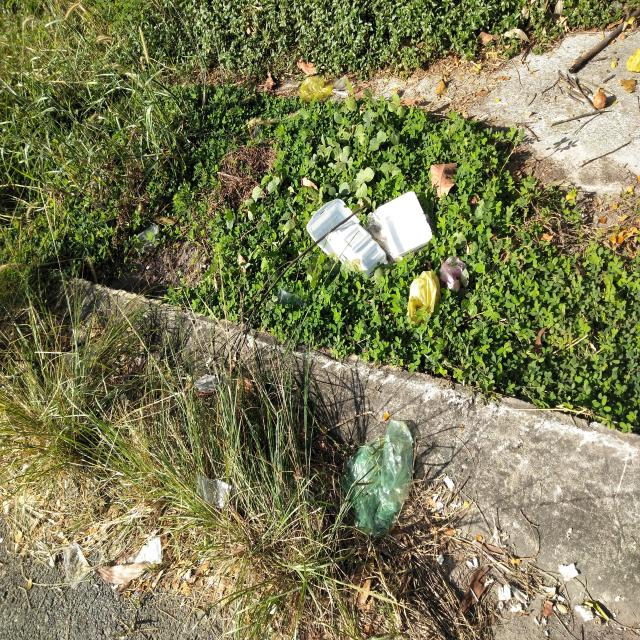litter: (296, 177, 451, 300), (331, 407, 427, 564), (400, 248, 488, 348)
